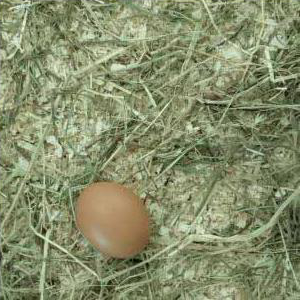egg: (76, 182, 151, 259)
